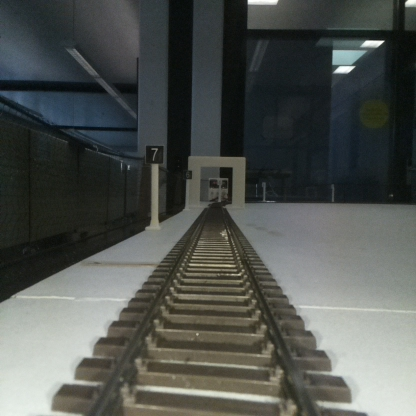black-info-7: (146, 145, 163, 229)
